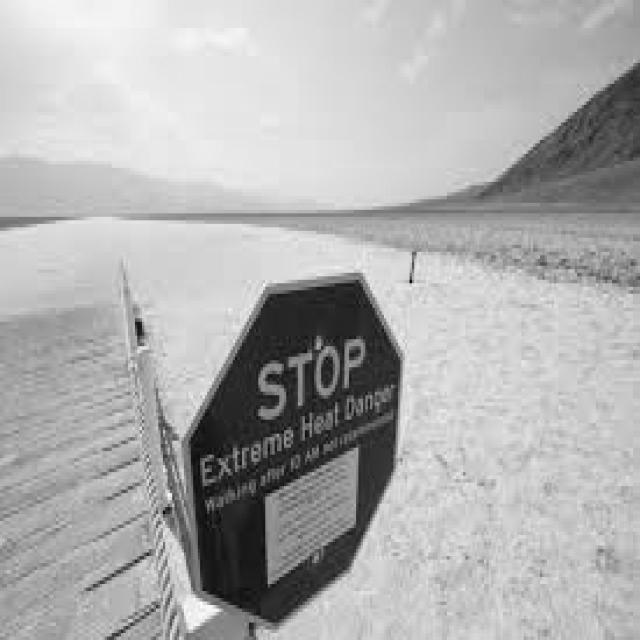stop sign: (185, 275, 402, 624)
